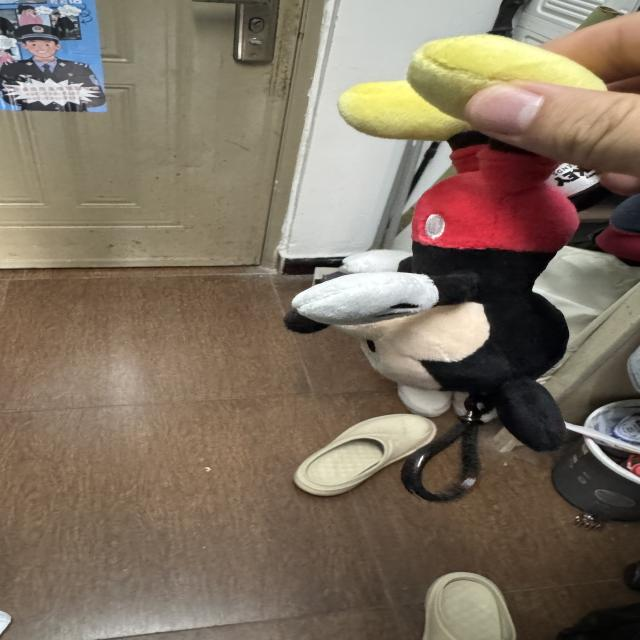mickey: (286, 35, 605, 450)
